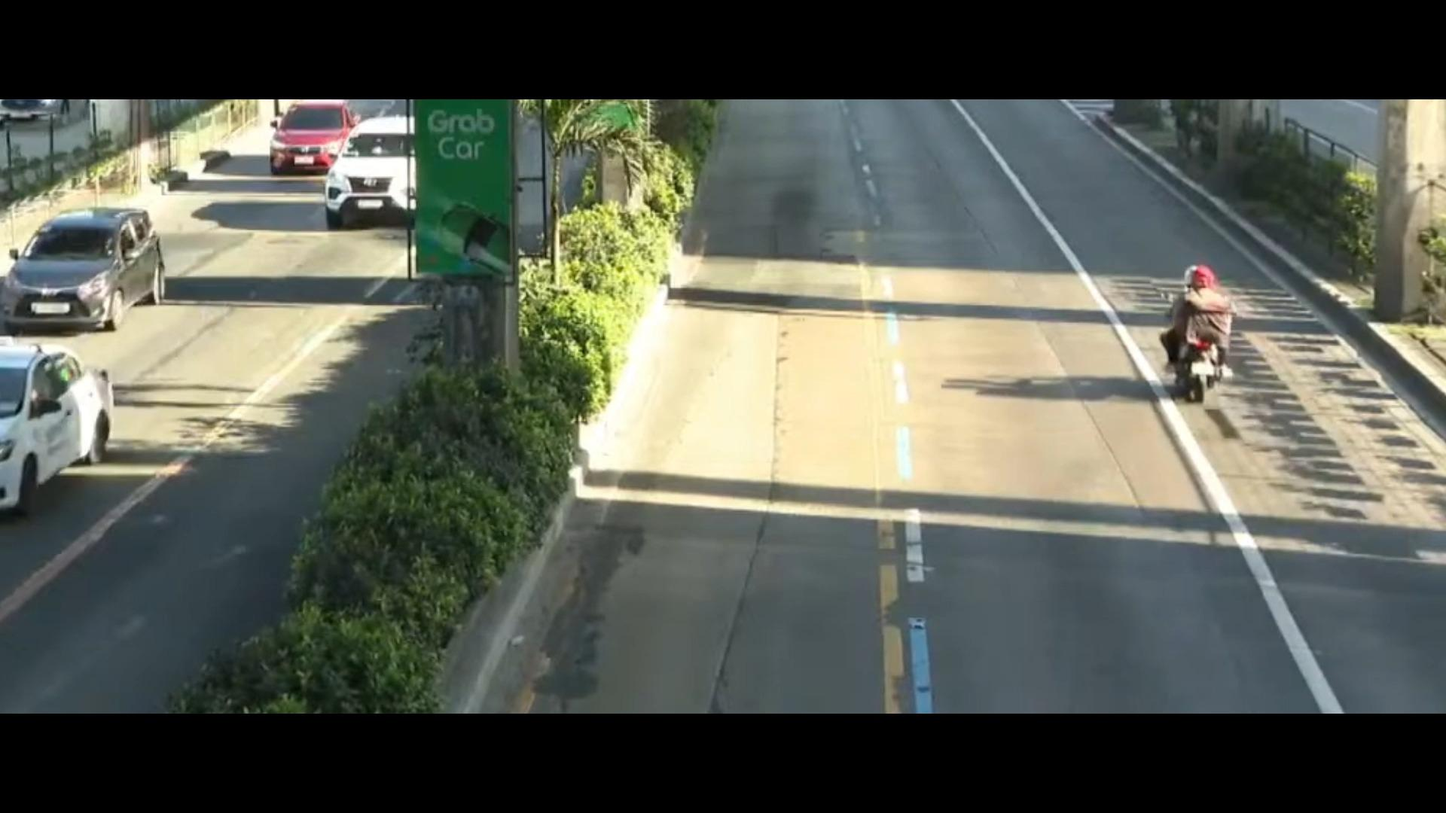Motorcycle: (1137, 243, 1271, 426)
SUV: (0, 187, 168, 337), (325, 109, 417, 239)
Sedan: (0, 345, 168, 517), (244, 91, 371, 191)
